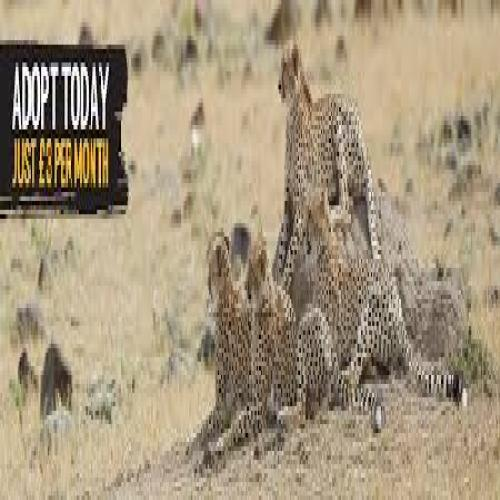cheetah-endangered: (301, 201, 465, 438), (246, 210, 330, 438), (267, 30, 379, 194), (200, 213, 246, 448)
